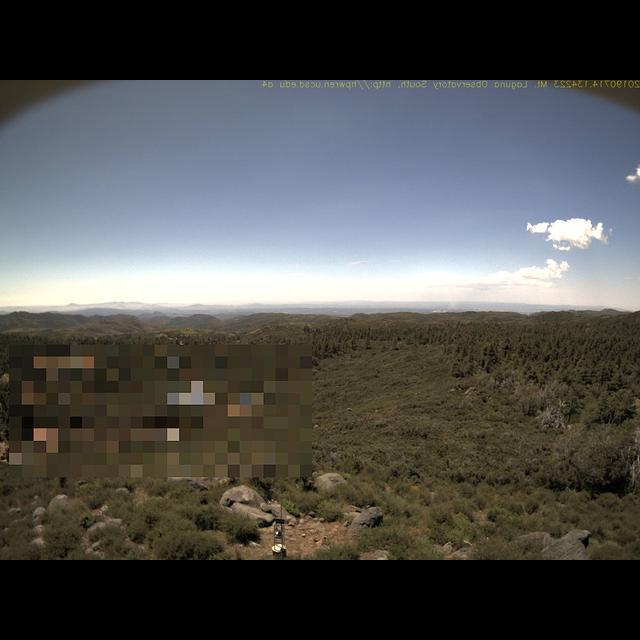Smoke: (431, 280, 485, 313)
